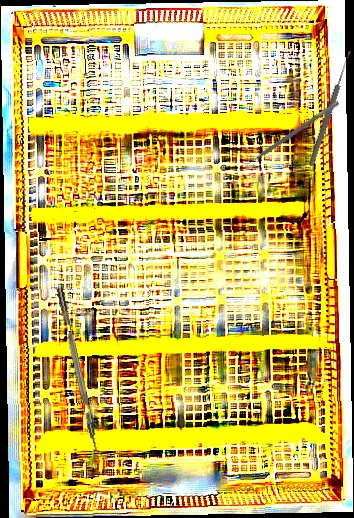Chopper: (56, 285, 109, 463)
Spatula Surgical: (240, 96, 340, 170)
Surgical Spoon: (307, 50, 354, 167)
